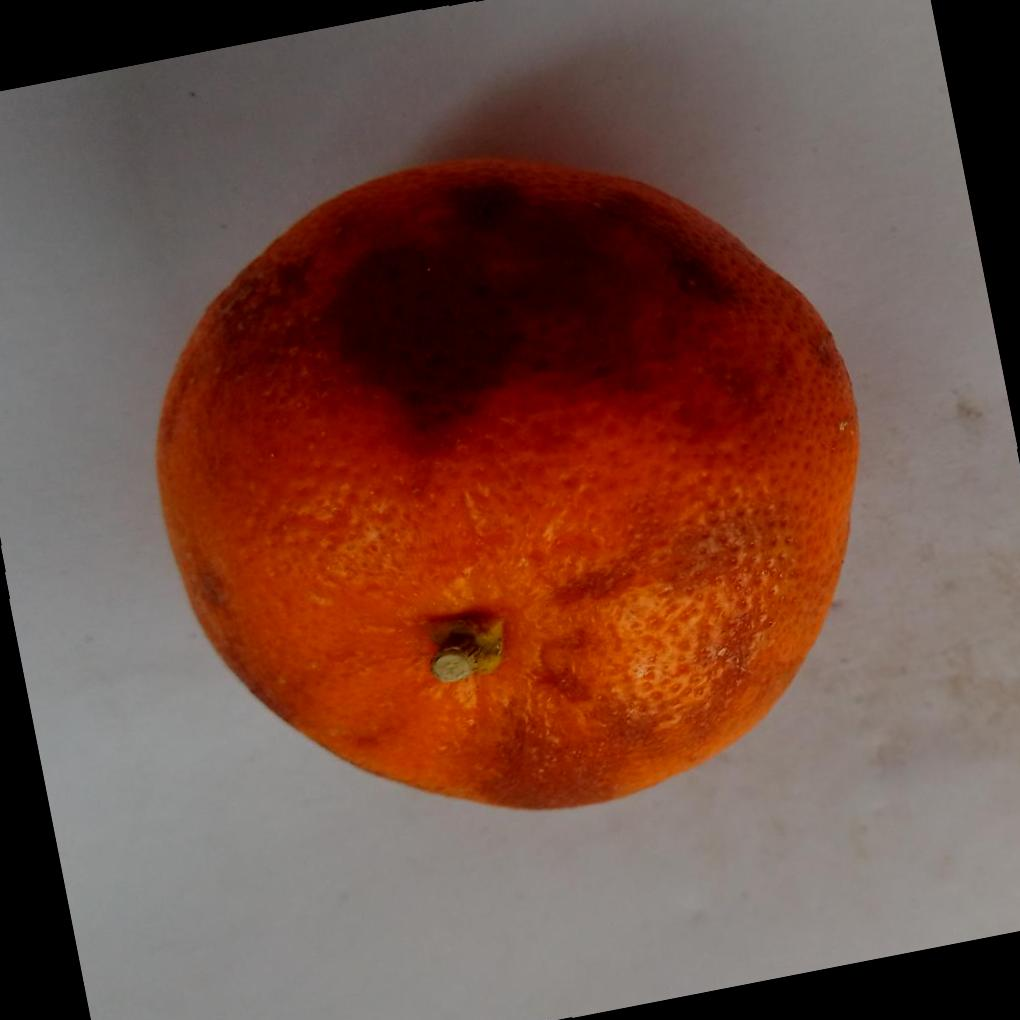FreshOrange: (151, 148, 860, 808)
